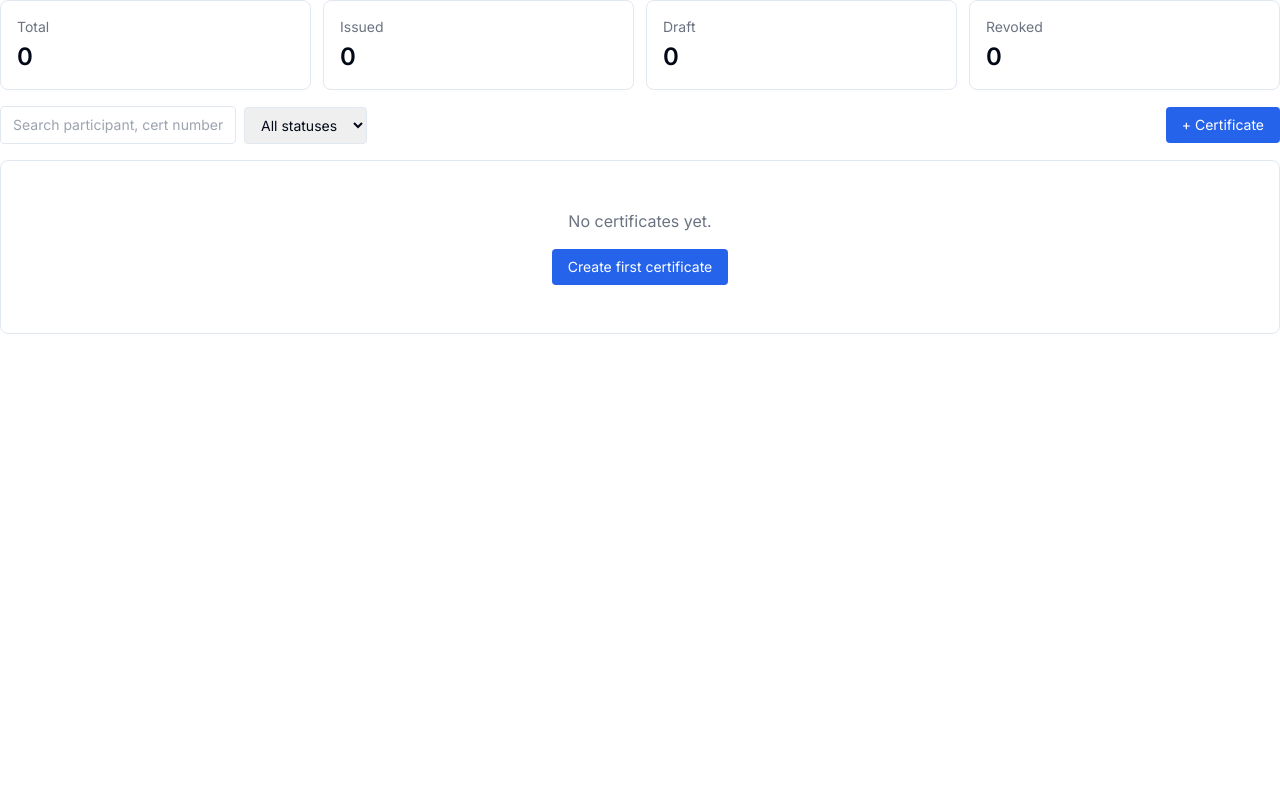
Test: CertificateCenter — create dialog › clicking btn-create-certificate opens dialog
Click the button with test id "btn-create-certificate".
click(1223, 125)  # box [1166,107,1279,143]
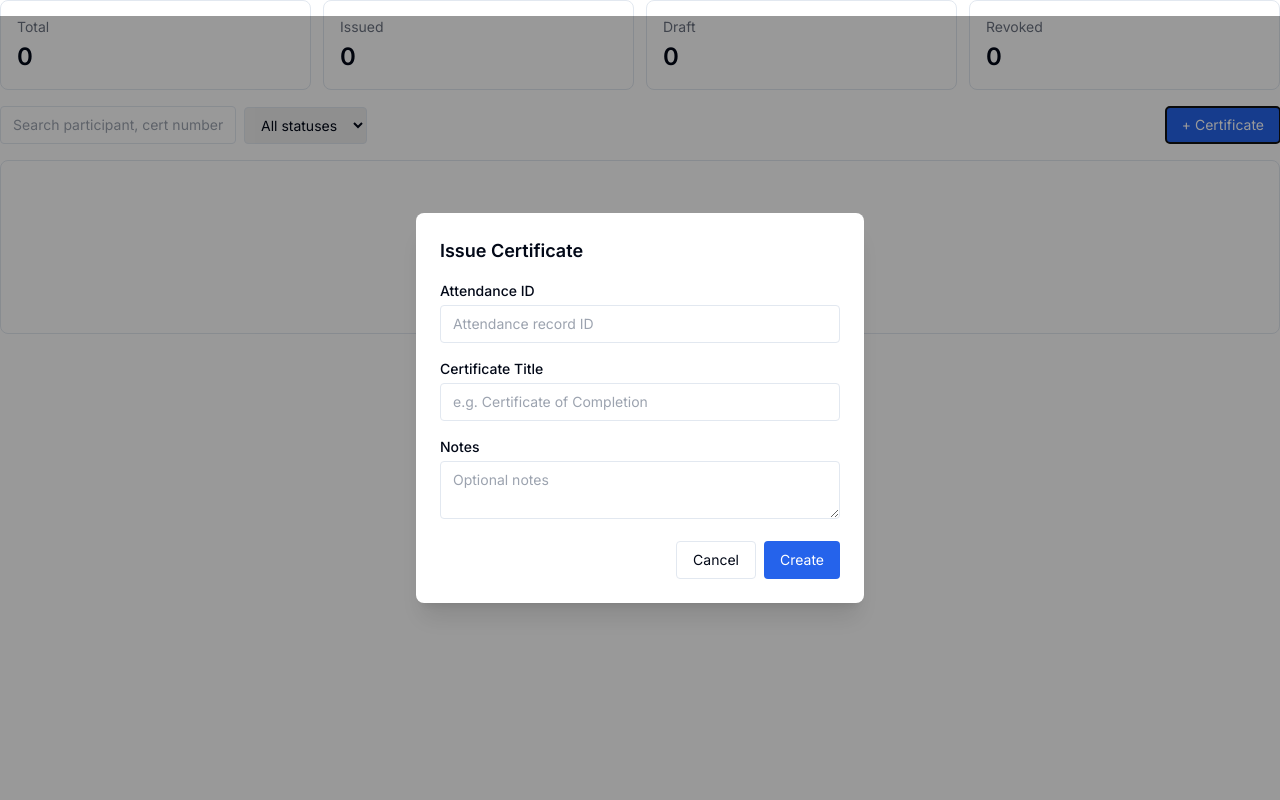
Now the element with test id "create-dialog" is shown
